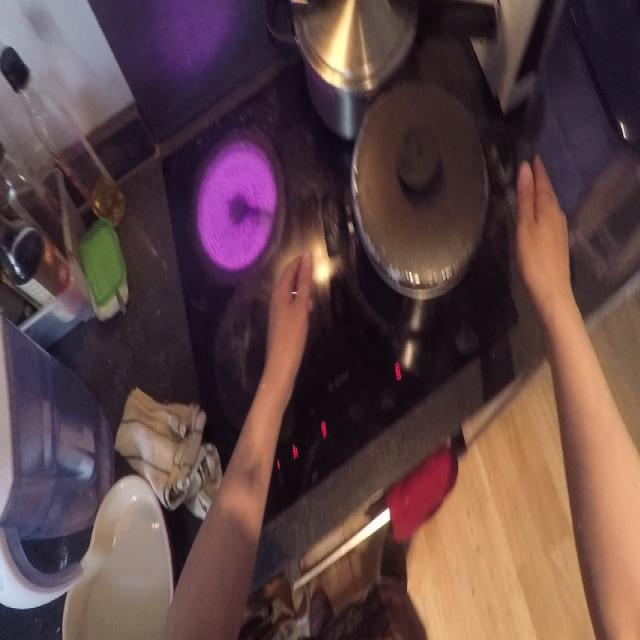cloth: (125, 356, 217, 516)
left hand: (256, 245, 320, 414)
oil: (3, 41, 126, 234)
pan: (345, 85, 488, 321)
right hand: (516, 146, 588, 344)
water filter: (0, 312, 112, 606)
